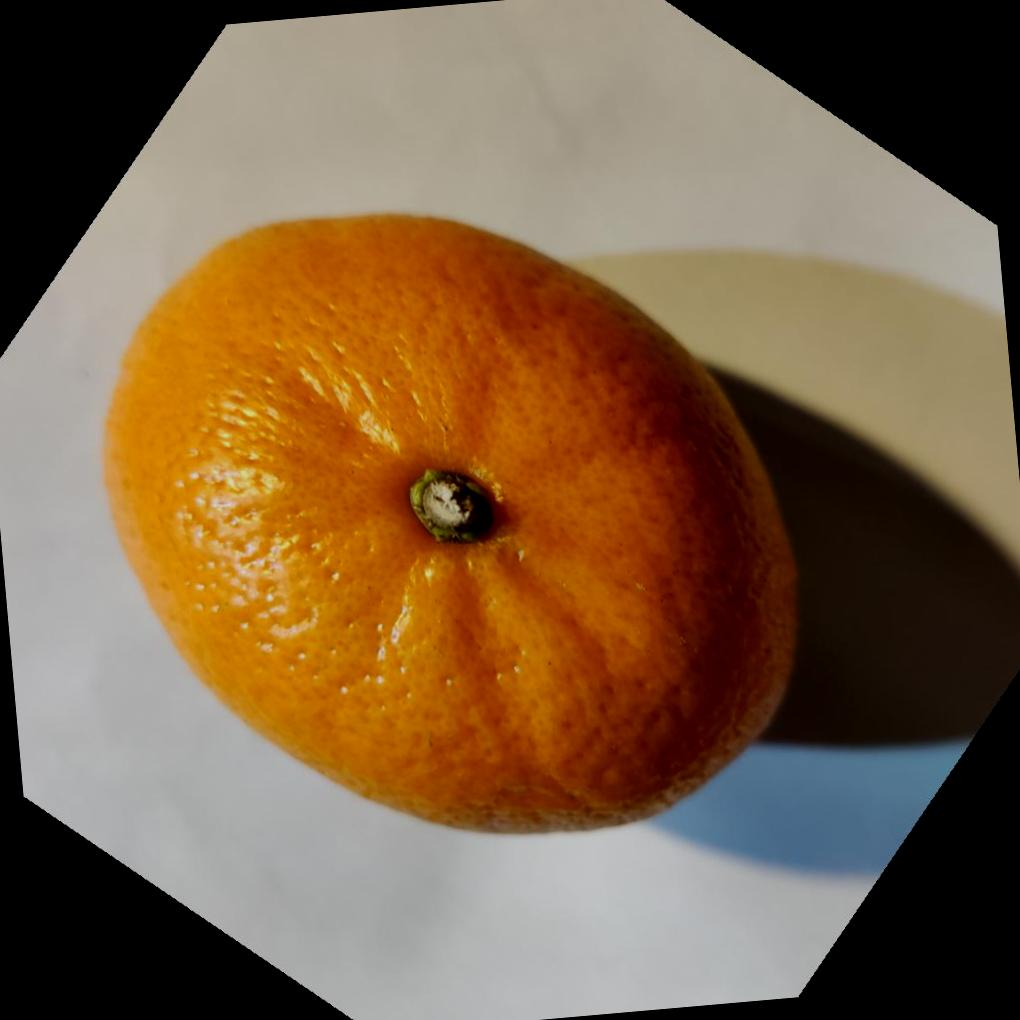FreshGuava: (103, 209, 803, 838)
